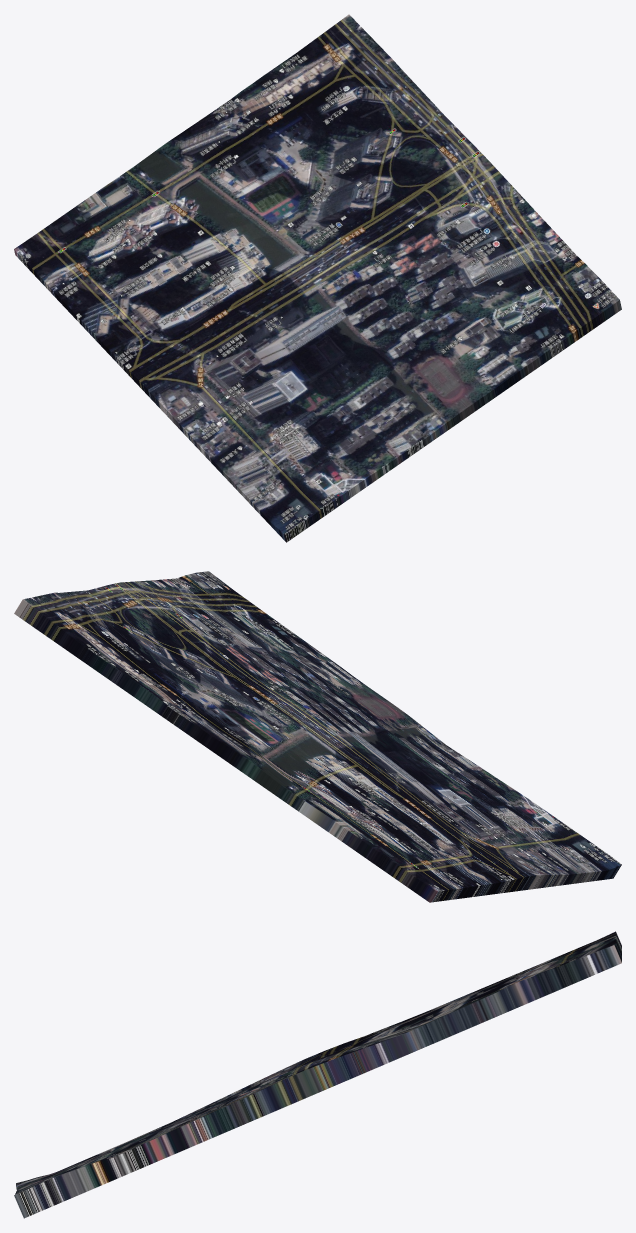
3 renders of one model, top to bottom at view 1: azimuth 30°, elevation 25°; view 2: azimuth 150°, elevation 25°; view 3: azimuth 270°, elevation 25°, orthographic. The views are drawn at different scales.
Visible parts, largest first — view 1: 0_9_24; view 2: 0_9_24; view 3: 0_9_24.
Boxes of the visible parts, left/top/right/bottom form: 0_9_24: left=14, top=14, right=621, bottom=542; 0_9_24: left=14, top=571, right=621, bottom=902; 0_9_24: left=14, top=931, right=621, bottom=1218.
Size of the model in its own units: 597 by 444 by 551.
1 material, 1 textured.
